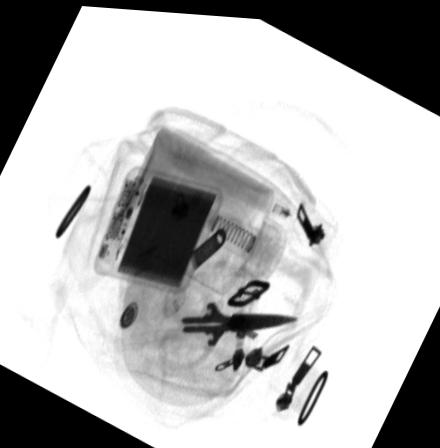Powerbank: (90, 164, 223, 293)
Scissors: (156, 273, 304, 370)
